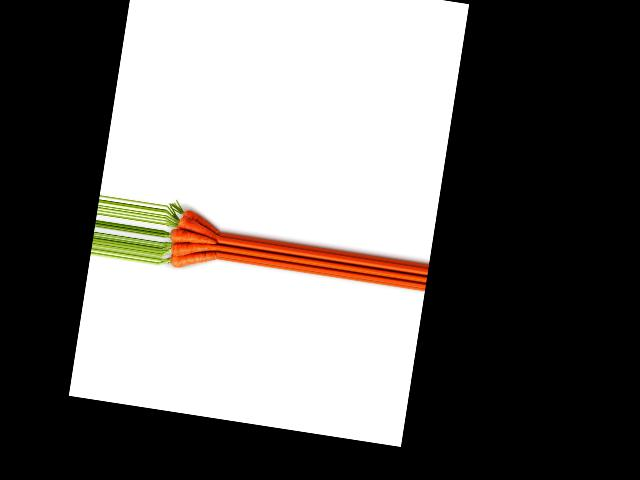carrot: (180, 204, 223, 235)
